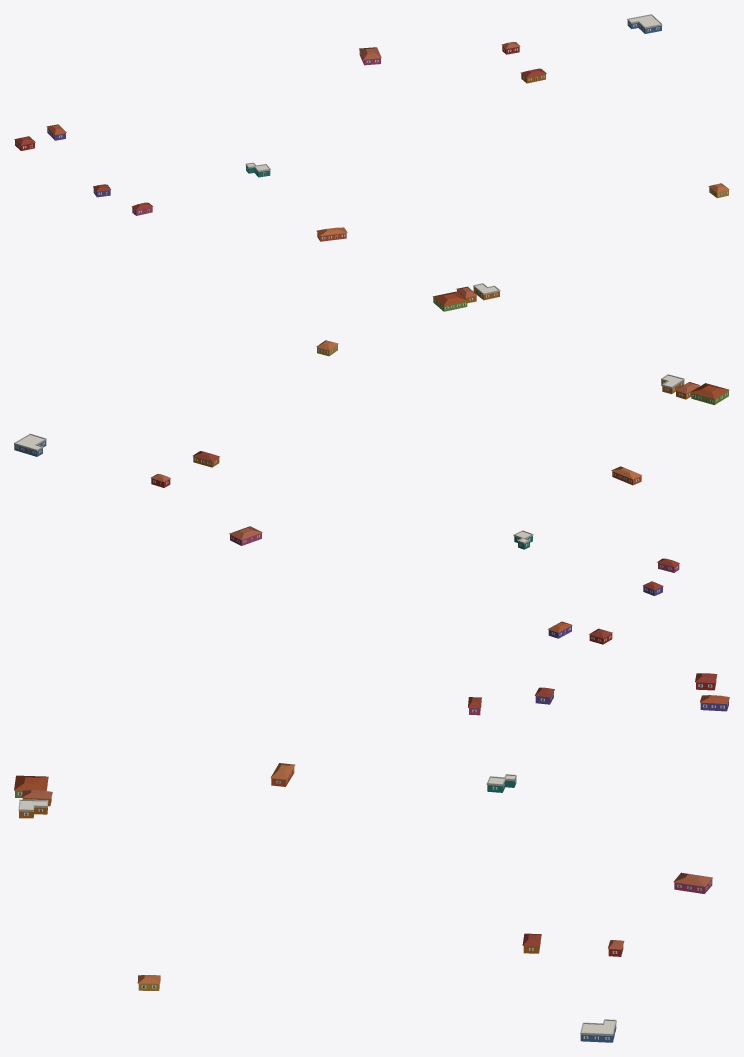
Rendered from msb_oranjestad_m17_m4.glb.
The picture shows the model from 3 angles, top to bottom: view 1: azimuth 30°, elevation 25°; view 2: azimuth 150°, elevation 25°; view 3: azimuth 270°, elevation 25°; orthographic projection. The views are drawn at different scales.
Parts seen in each view (by area): view 1: msb_oranjestad_m17_m4_lod0; view 2: msb_oranjestad_m17_m4_lod0; view 3: msb_oranjestad_m17_m4_lod0.
Part boxes in pixels (x1,y1,x2,y2): msb_oranjestad_m17_m4_lod0: [14, 14, 729, 311]; msb_oranjestad_m17_m4_lod0: [14, 340, 729, 644]; msb_oranjestad_m17_m4_lod0: [14, 673, 729, 1042].
Size of what is drawn, in the model's own units: 364 by 14.81 by 296.
Materials: 3 (1 with a texture image).
